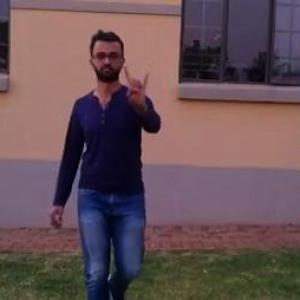takeoff-hand: (121, 62, 157, 121)
